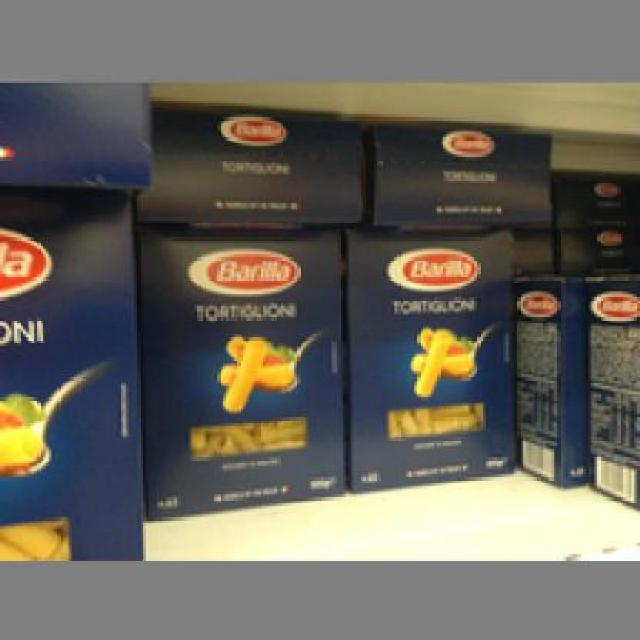Pasta: (130, 220, 347, 517), (340, 226, 523, 492)
